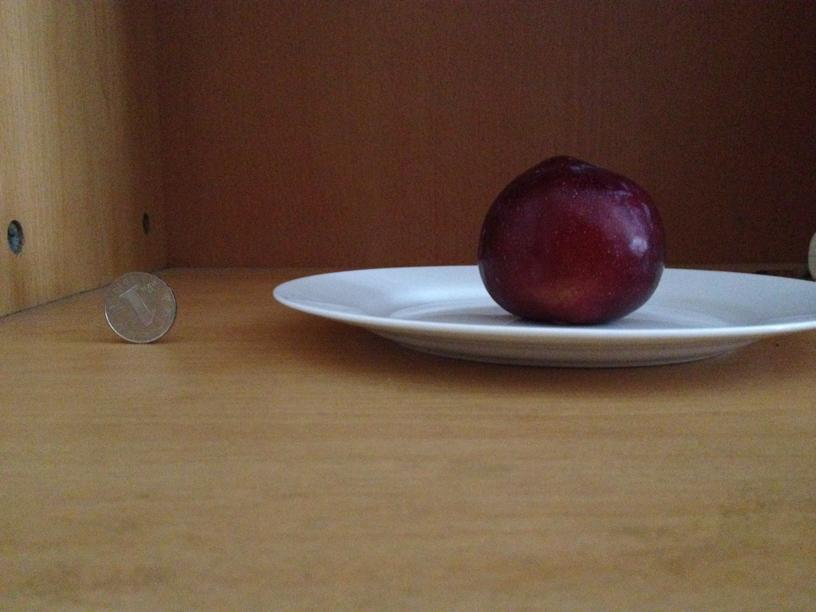coin: (100, 270, 177, 343)
plum: (475, 151, 664, 325)
